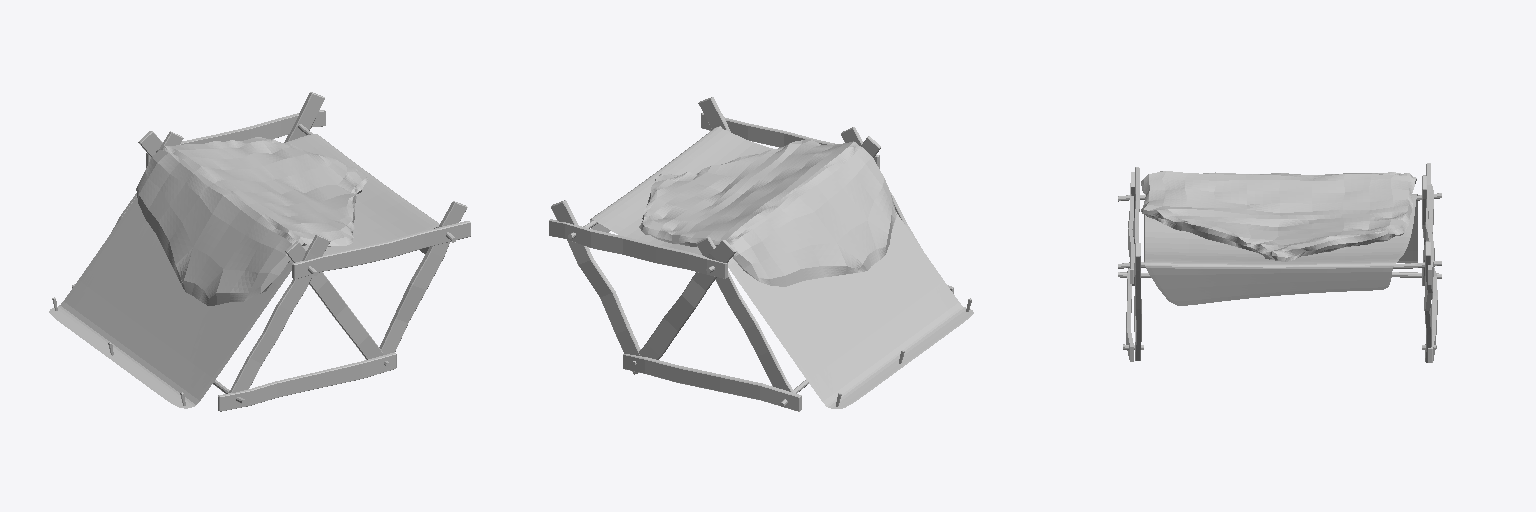
Rendered from highpoly_viking_tent_006.obj.
3 renders of one model, left to right at view 1: azimuth 30°, elevation 25°; view 2: azimuth 150°, elevation 25°; view 3: azimuth 270°, elevation 25°, orthographic.
Visible parts, largest first — view 1: Plane.001, Plane.003, Cube.029, Cube.032, Cube.027, Cube.030, Cube.026, Cube.033, Cube.031; view 2: Plane.001, Plane.003, Cube.033, Cube.024, Cube.031, Cube.025, Cube.028, Cube.032, Cube.030; view 3: Plane.001, Plane.003, Cube.030, Cube.031.
Boxes of the visible parts, box(x1,y1,x2,y2) form: Plane.001: box(136, 137, 367, 305); Plane.003: box(49, 134, 439, 408); Cube.029: box(218, 352, 396, 411); Cube.032: box(292, 221, 470, 279); Cube.027: box(229, 234, 330, 392); Cube.030: box(379, 201, 467, 354); Cube.026: box(285, 240, 383, 359); Cube.033: box(146, 110, 325, 167); Cube.031: box(284, 92, 324, 142); Plane.001: box(639, 139, 896, 286); Plane.003: box(590, 127, 973, 408); Cube.033: box(549, 219, 727, 278); Cube.024: box(623, 354, 801, 411); Cube.031: box(551, 200, 640, 374); Cube.025: box(639, 239, 736, 359); Cube.028: box(696, 237, 794, 392); Cube.032: box(701, 113, 879, 168); Cube.030: box(698, 97, 730, 131); Plane.001: box(1141, 171, 1416, 261); Plane.003: box(1144, 194, 1417, 305); Cube.030: box(1135, 243, 1141, 360); Cube.031: box(1424, 241, 1432, 362).
Size of the model in its own units: 9.12 by 4.73 by 8.92.